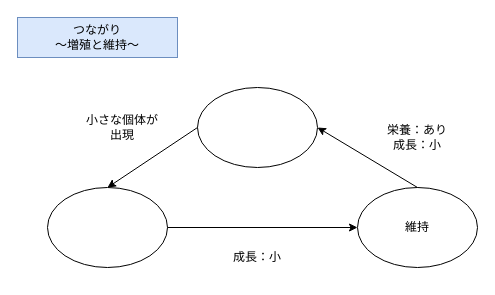
Some shapes in this 495 by 295 pixel diagram are drawn without their labels. Each missing label, with the box of its shape:
増殖: (196, 86, 318, 168)
成長: (46, 186, 168, 268)
